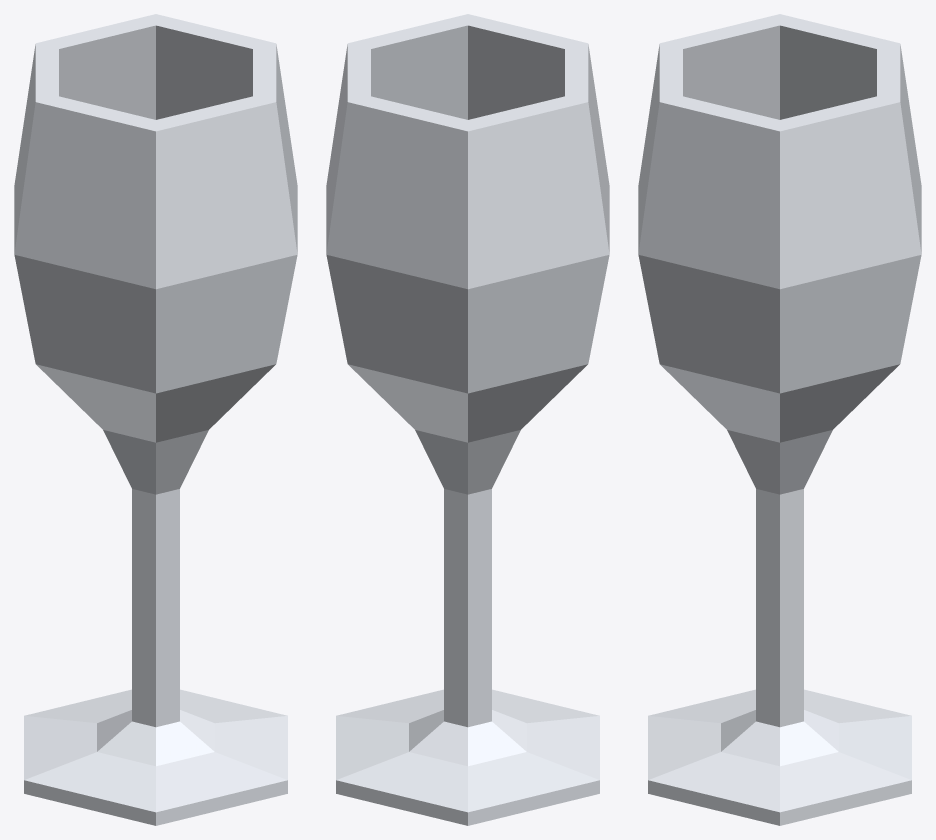
File: SM_Item_GlassCup_02.obj
3 views of the same model, side by side, from view 1: azimuth 30°, elevation 25°; view 2: azimuth 150°, elevation 25°; view 3: azimuth 270°, elevation 25° (orthographic).
Parts seen in each view (by area): view 1: SM_Item_GlassCup_02_Mat_PolygonTown_Glass; view 2: SM_Item_GlassCup_02_Mat_PolygonTown_Glass; view 3: SM_Item_GlassCup_02_Mat_PolygonTown_Glass.
Part boxes in pixels (box(x1,y1,x2,y2)): SM_Item_GlassCup_02_Mat_PolygonTown_Glass: box(14, 14, 297, 825); SM_Item_GlassCup_02_Mat_PolygonTown_Glass: box(326, 14, 609, 825); SM_Item_GlassCup_02_Mat_PolygonTown_Glass: box(638, 14, 921, 825).
Size of the model in its own units: 0.1395 by 0.3241 by 0.1208.
1 material, 1 textured.
